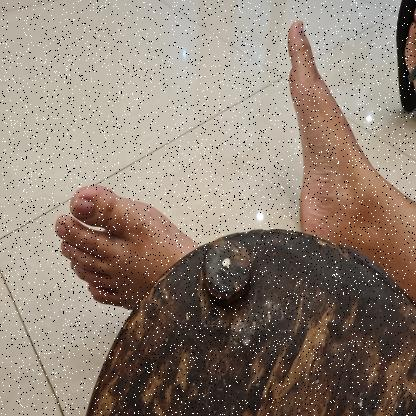leg: (280, 16, 416, 301), (51, 171, 201, 315)
